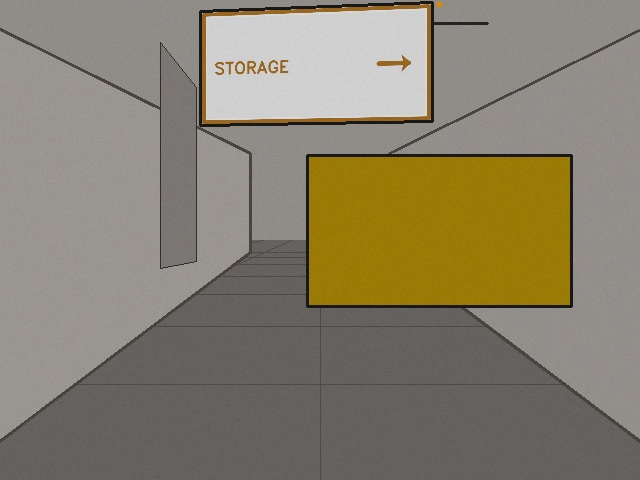directional_sign: (200, 2, 432, 125)
forklift: (307, 4, 571, 306)
